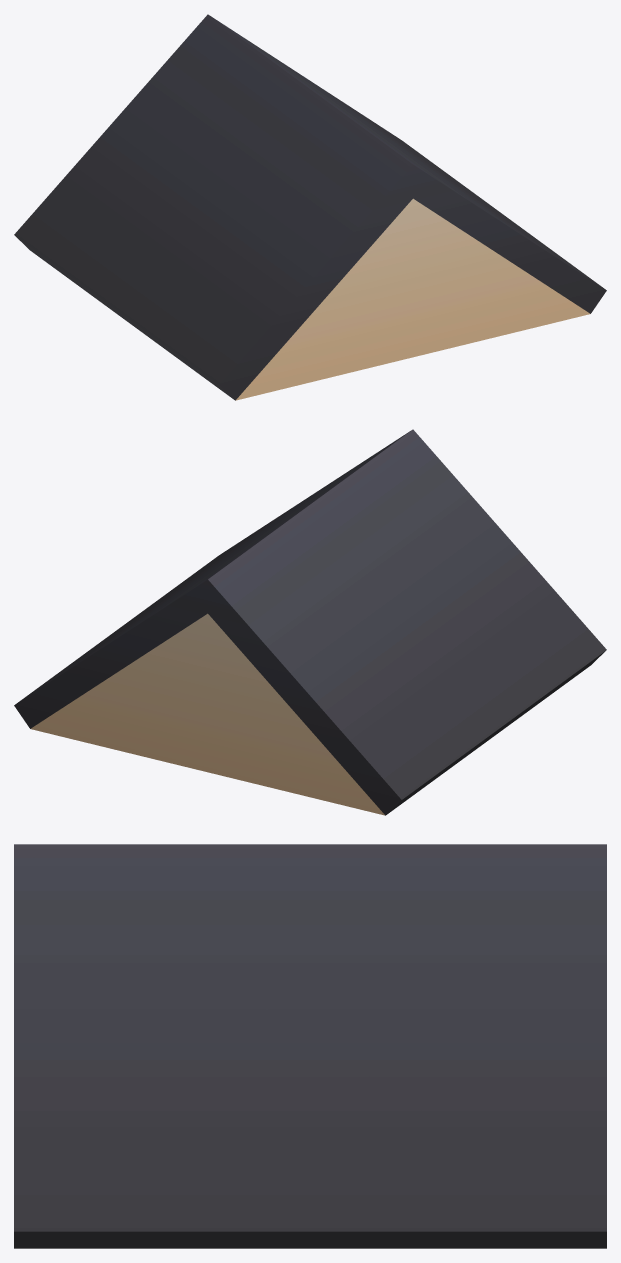
File: kenney-modular-buildings-roof-gable.glb
3 views of the same model, one above another, from view 1: azimuth 30°, elevation 25°; view 2: azimuth 150°, elevation 25°; view 3: azimuth 270°, elevation 25° (orthographic). The views are drawn at different scales.
Parts seen in each view (by area): view 1: roof-gable; view 2: roof-gable; view 3: roof-gable.
Boxes of the visible parts, bbox=[...] form: roof-gable: bbox=[14, 14, 606, 400]; roof-gable: bbox=[14, 429, 606, 815]; roof-gable: bbox=[14, 844, 606, 1248].
Bounding box in the file's own units: 1.09 × 0.5188 × 1.
1 material, 1 textured.
